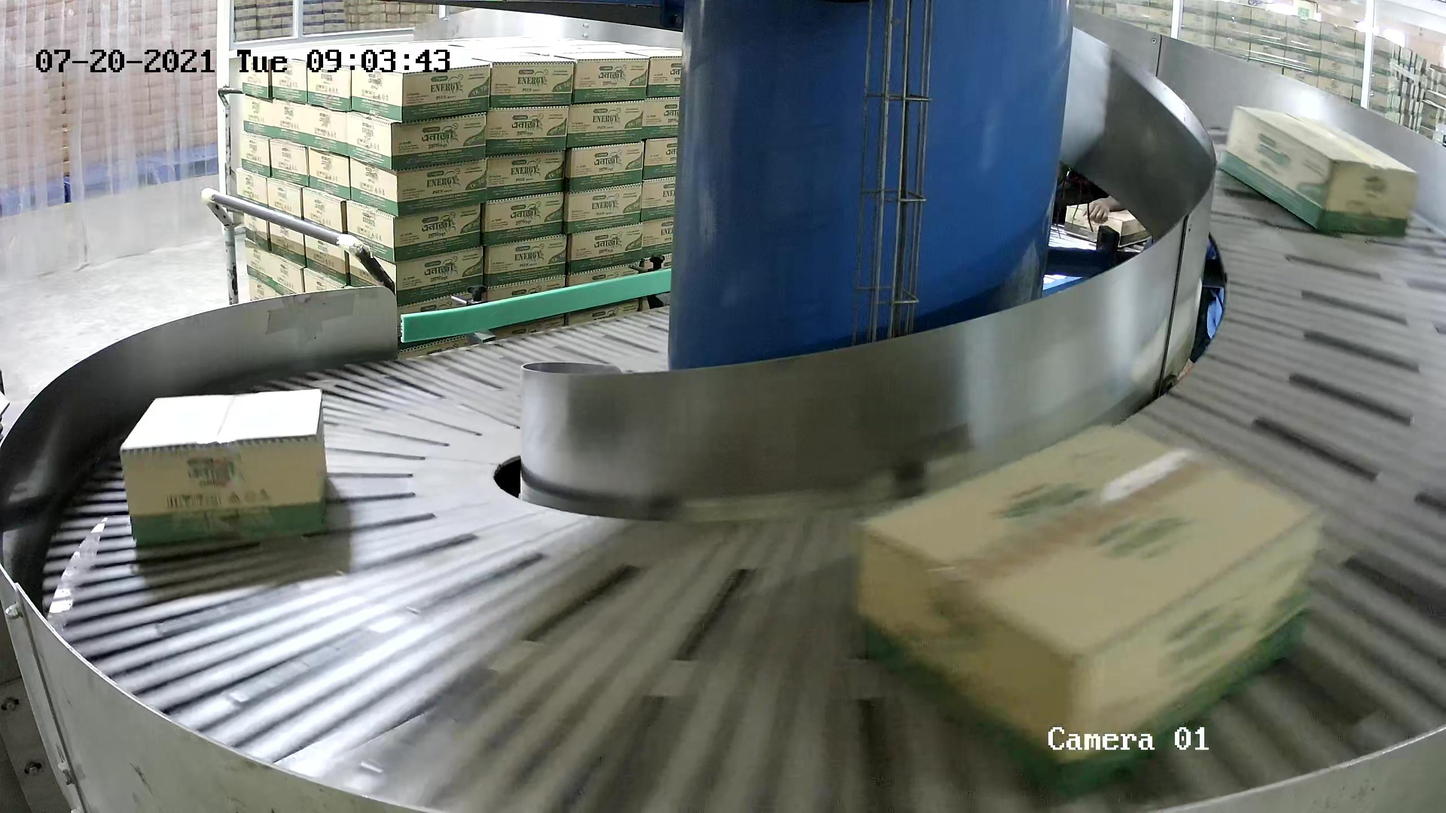Box: (850, 416, 1329, 808), (117, 386, 330, 549), (1216, 101, 1418, 239)
